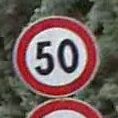limite 50: (11, 14, 99, 94)
